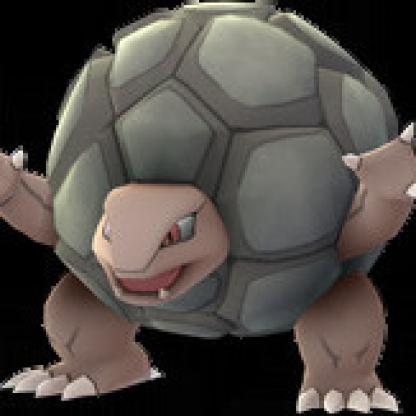Golem: (1, 1, 415, 415)
